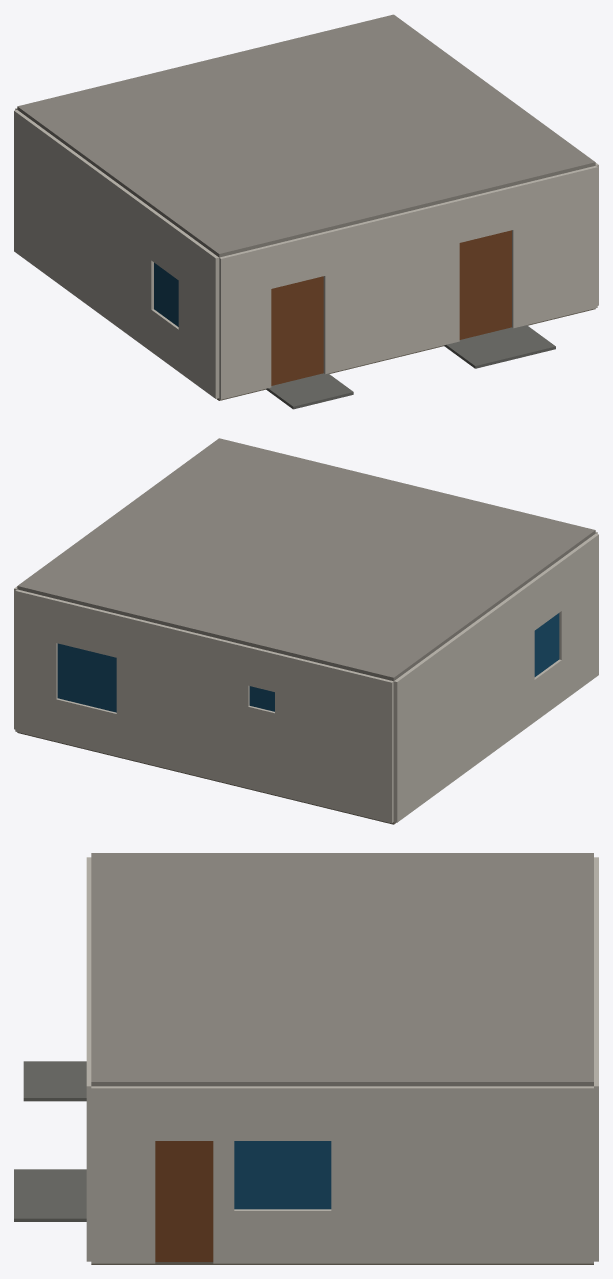
Rendered from 1BHK_06.obj.
3 renders of one model, top to bottom at view 1: azimuth 30°, elevation 25°; view 2: azimuth 150°, elevation 25°; view 3: azimuth 270°, elevation 25°, orthographic. The views are drawn at different scales.
Size of the model in its own units: 8.69 by 3.18 by 9.22.
